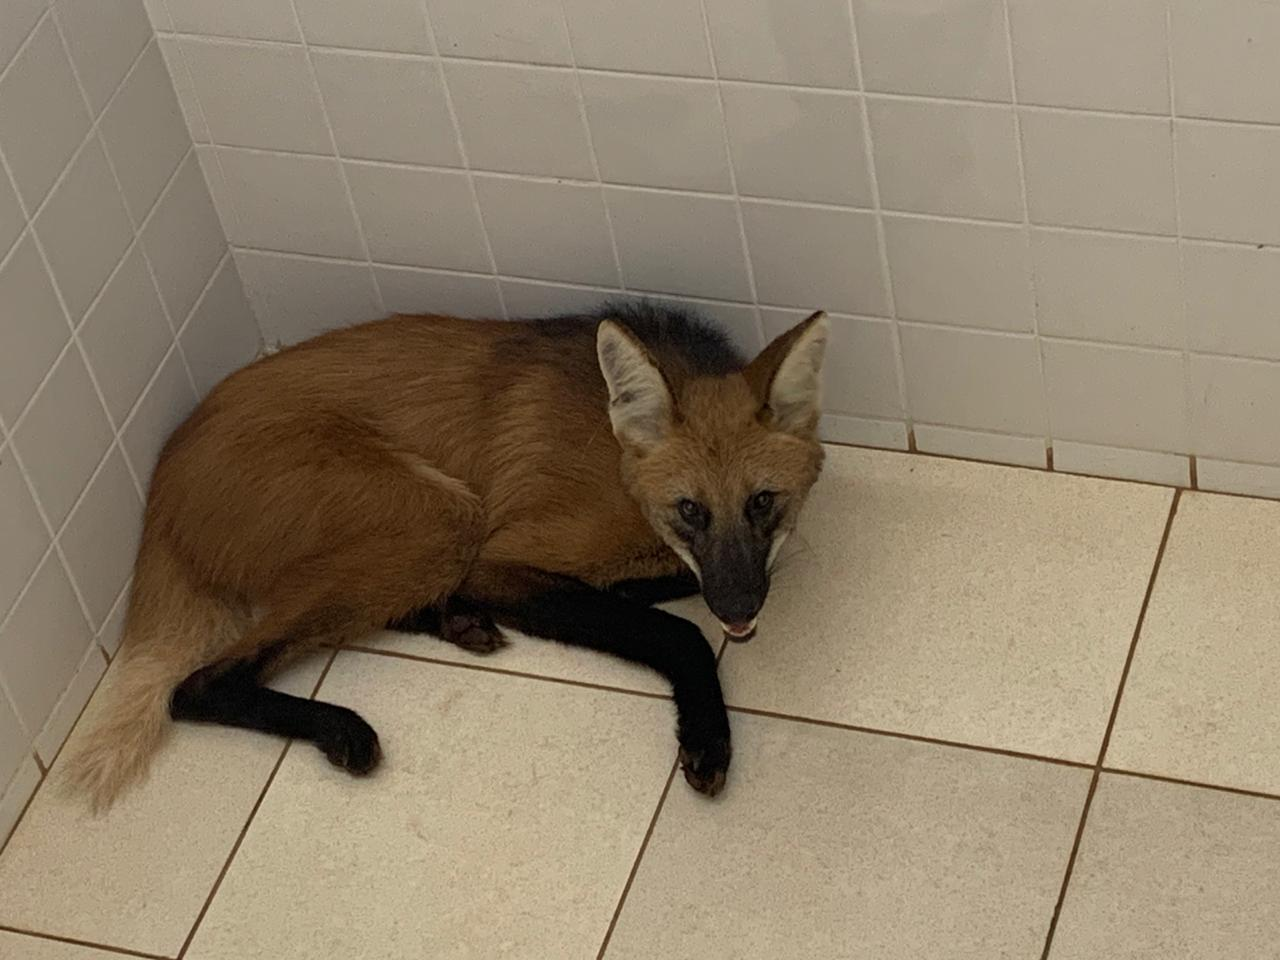LoboGuara: (54, 293, 856, 812)
